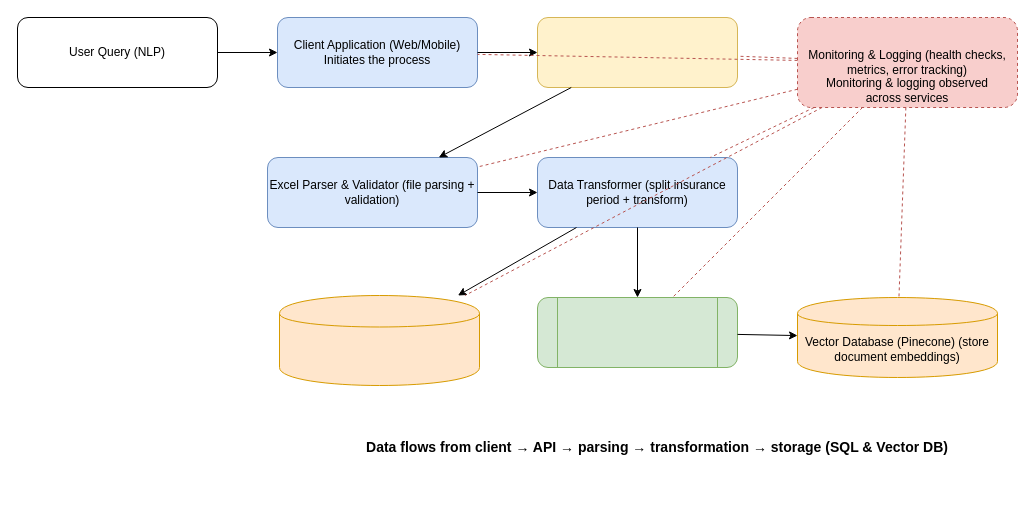
Image size: 1035x515. Some labels were removed from this diagram. The centre of each missing label's shape, as x and y in pixels:
"API Gateway (FastAPI) `POST /ingest-excel`" belongs at (637,52).
"Embedding Generator (create vector embeddings from text)" belongs at (637,332).
"PostgreSQL Database (store structured policy data)" belongs at (379,340).
